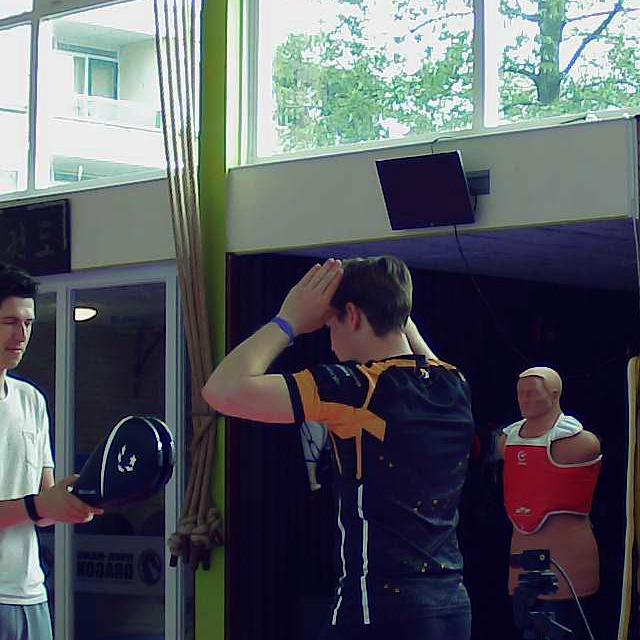paddle: (68, 414, 174, 508)
